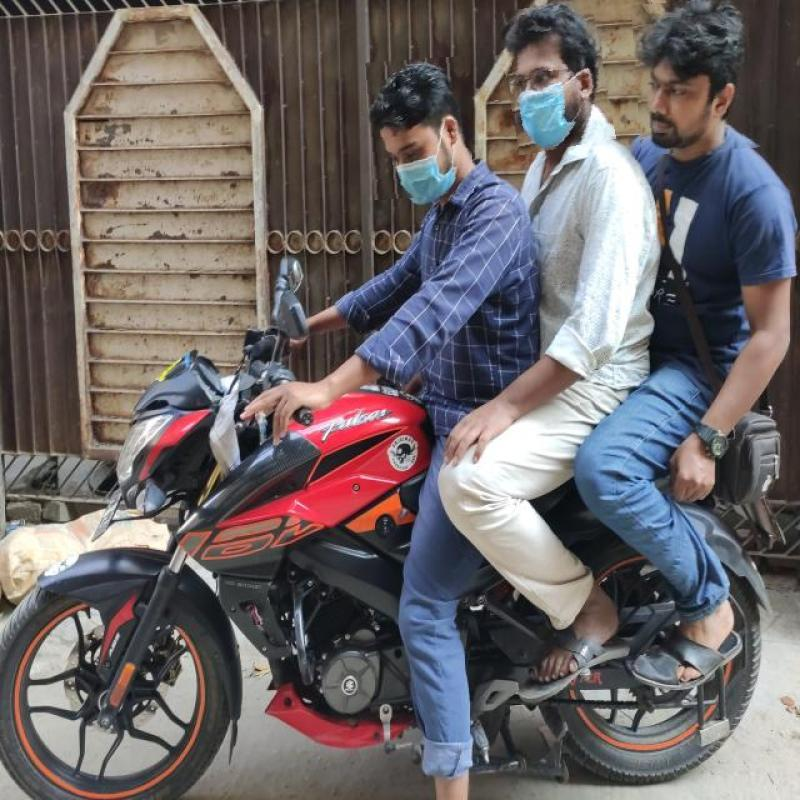nohelmet: (633, 0, 760, 153), (501, 1, 610, 152), (367, 58, 472, 198)
